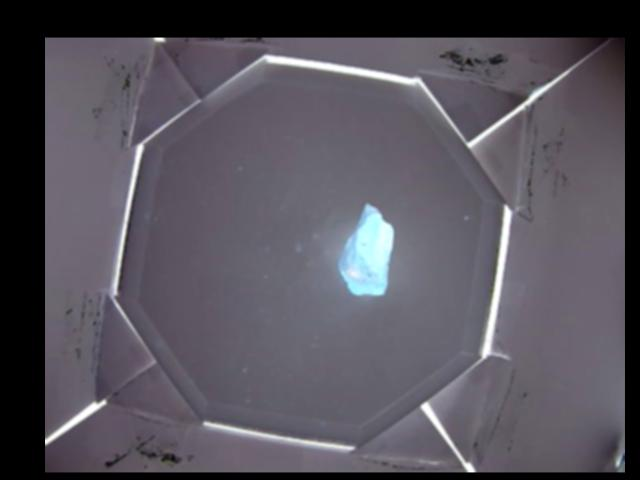Brisk: (338, 204, 393, 295)
